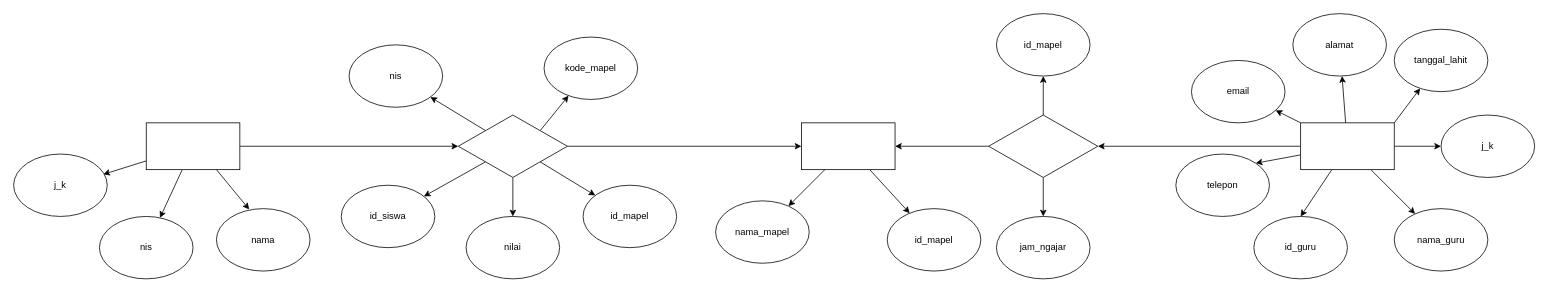
The diagram is 1548 pixels wide and 293 high, and some of its shapes have lost their labels. The shapes that lost their labels are listed below. From the top down, each one's centre as x and y in pixels, then its label:
At pixel 192 146: "SISWA".
At pixel 512 145: "mempelajari".
At pixel 848 146: "MAPEL".
At pixel 1043 145: "mengajar".
At pixel 1347 146: "GURU".
